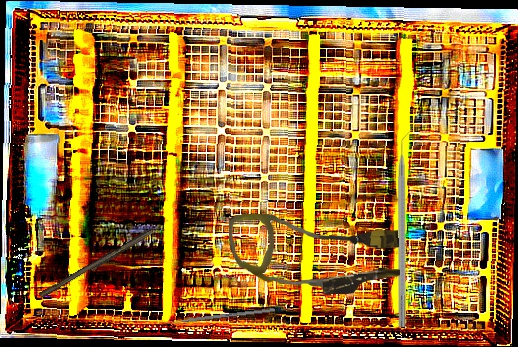Cannula: (228, 209, 401, 298)
Chopper: (398, 128, 416, 327)
Pusher: (159, 307, 275, 327)
Scalpel Handle: (38, 226, 156, 302)
